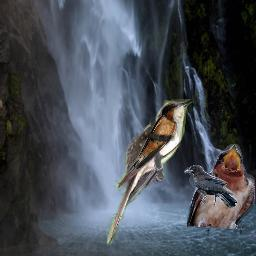Crow: (184, 165, 238, 208)
Cuckoo: (107, 99, 194, 245)
Swallow: (187, 144, 255, 235), (124, 103, 179, 175)
